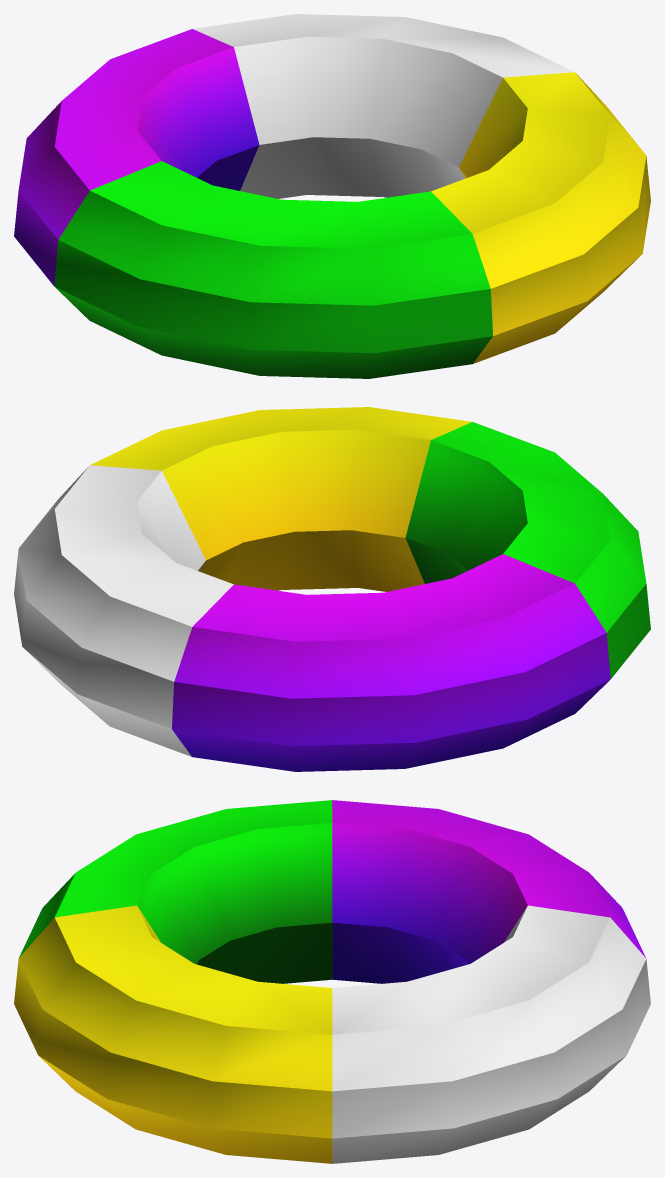
File: Pelampung3.fbx
The picture shows the model from 3 angles, top to bottom: view 1: azimuth 30°, elevation 25°; view 2: azimuth 150°, elevation 25°; view 3: azimuth 270°, elevation 25°; orthographic projection.
Parts seen in each view (by area): view 1: Prop_SwimmingRing_05.002; view 2: Prop_SwimmingRing_05.002; view 3: Prop_SwimmingRing_05.002.
Part boxes in pixels (x1,y1,x2,y2): Prop_SwimmingRing_05.002: (14,14,650,378); Prop_SwimmingRing_05.002: (14,407,650,771); Prop_SwimmingRing_05.002: (14,800,650,1163).
Bounding box in the file's own units: 78.21 × 21.25 × 78.21.
